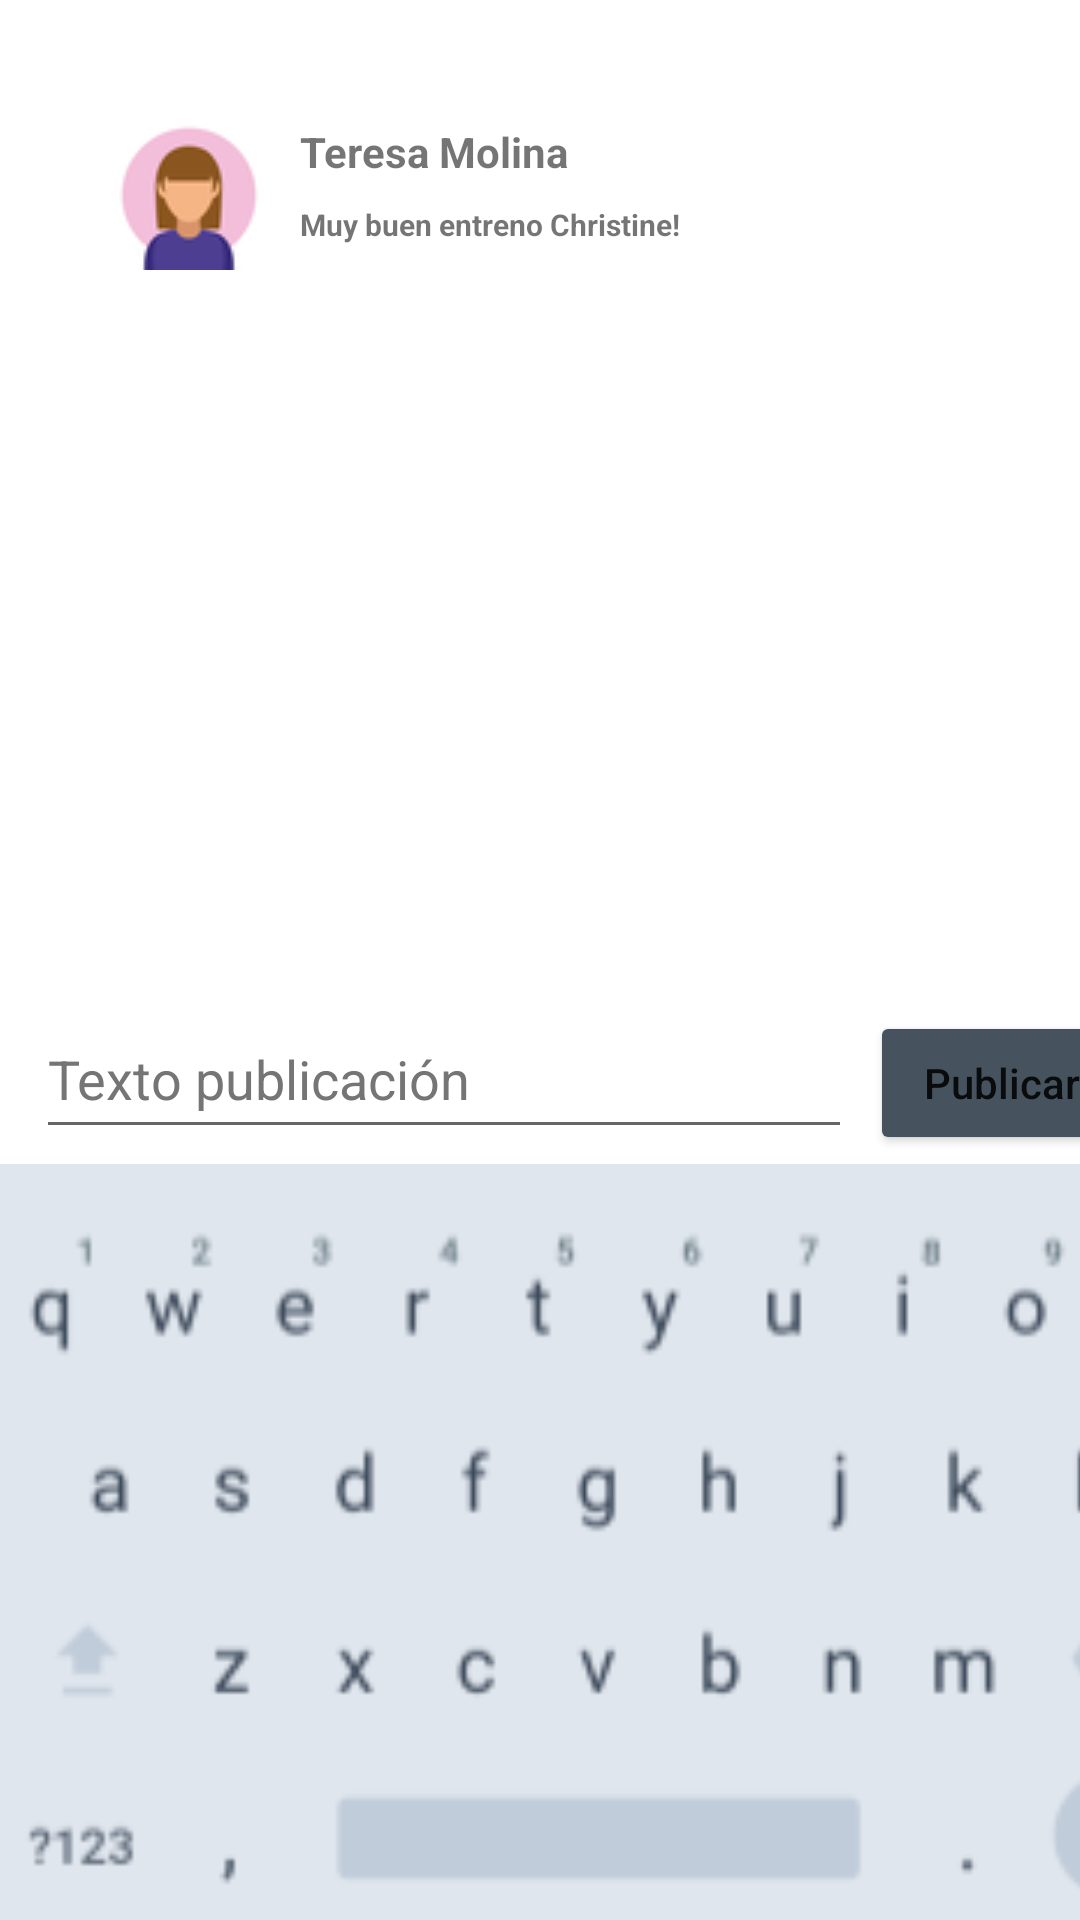

Point at icon controls on the screen. Image size 1080×1920, points as [x,y].
profile: [189,199]
